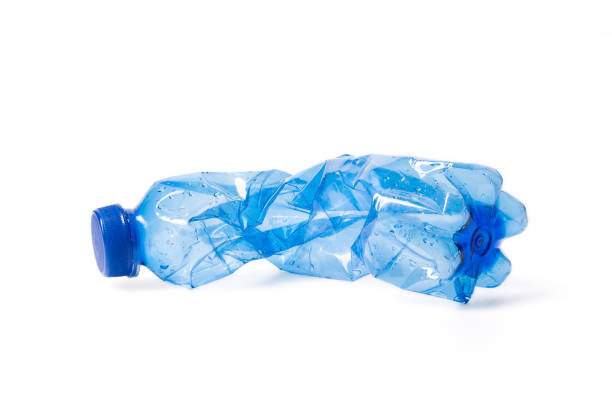HDPE Cap: (90, 204, 134, 278)
PET Bottle: (88, 153, 529, 307)
